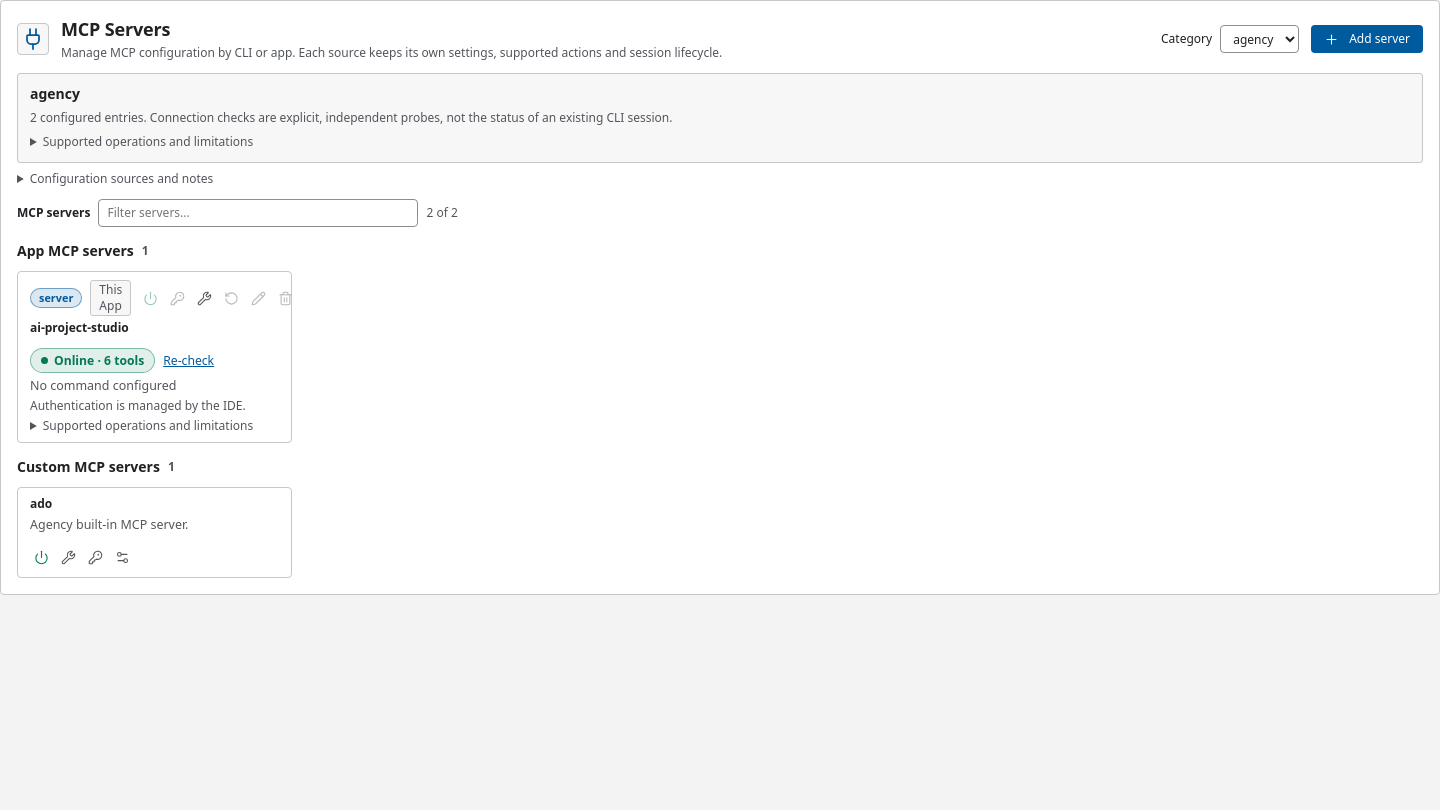
McpManager › checks only the app-owned bridge automatically and routes inherited app tools to Studio
Check: the text "Online · 6 tools" is shown, box [30,348,155,373]
Check: the button named "Auth ai-project-studio" is disabled, box [166,286,189,310]
Click the button named "Tools for ai-project-studio": (205,298) [193,286,216,310]
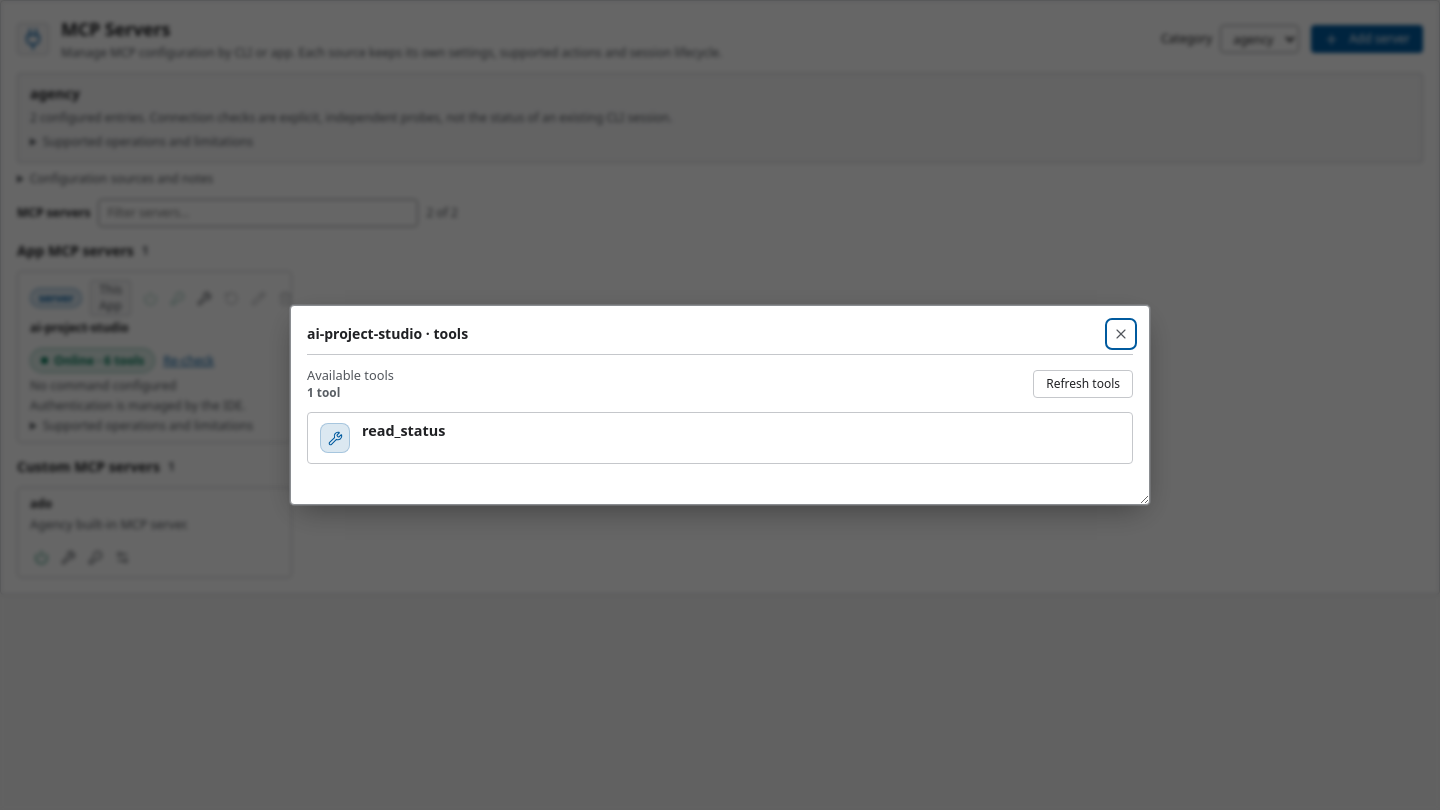
Check: the text "read_status" is shown, box [362,421,445,440]
